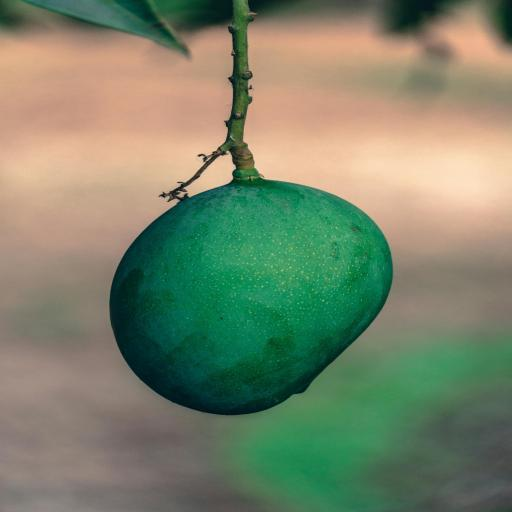mango: (109, 180, 395, 415)
